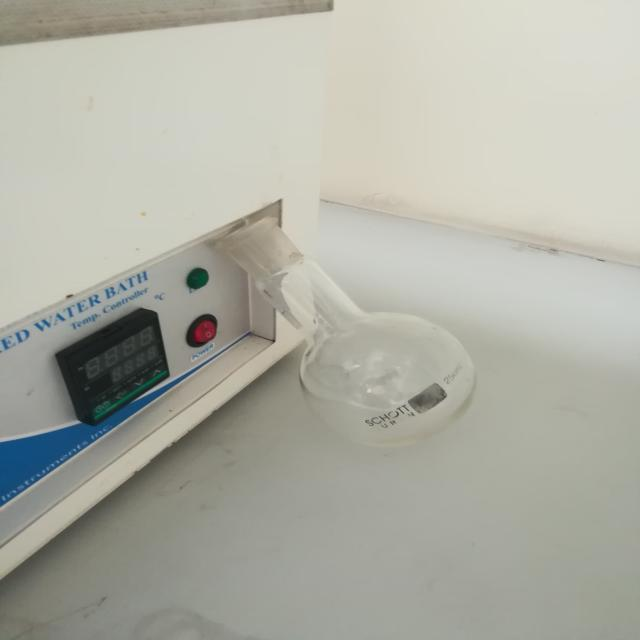Round_Bottom_Flask_Borosilicate_Glass_1_Neck: (164, 184, 536, 478)
